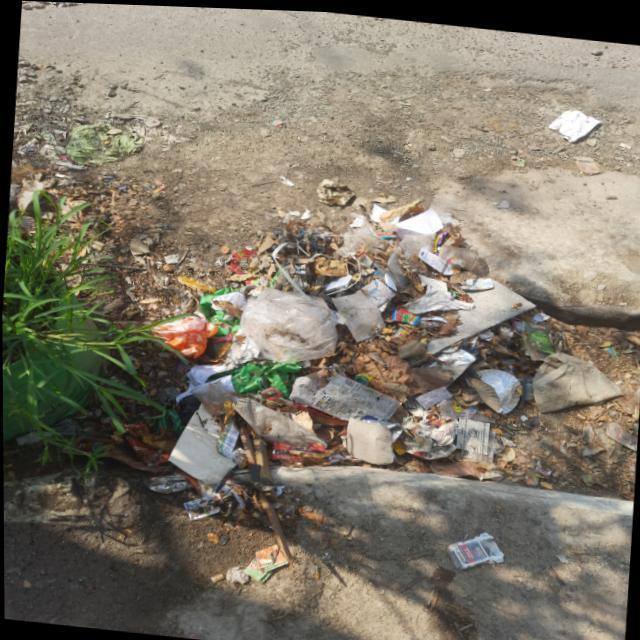Cig_pack: (324, 272, 351, 290), (174, 359, 189, 371)
Disposable: (189, 378, 237, 414), (437, 240, 478, 267)
Garbage: (63, 188, 625, 520)
Plastic: (354, 370, 371, 383)
Plastic_Bag: (239, 286, 337, 360), (386, 229, 435, 286), (230, 357, 300, 396), (332, 288, 384, 339), (198, 285, 240, 334), (335, 219, 377, 254), (460, 429, 500, 459), (176, 392, 200, 426), (438, 395, 474, 415), (437, 209, 460, 221), (470, 408, 494, 419), (349, 209, 364, 217)
Plastic_wraper: (310, 371, 399, 425), (420, 345, 474, 382), (123, 423, 168, 465), (183, 490, 237, 518), (270, 440, 328, 460), (523, 318, 554, 349), (220, 475, 249, 507), (143, 474, 191, 492), (229, 246, 255, 272), (73, 437, 112, 452), (391, 305, 418, 322), (239, 276, 260, 292), (258, 383, 281, 397), (355, 250, 372, 265), (509, 312, 525, 327), (500, 354, 514, 369), (209, 332, 231, 341), (377, 228, 395, 236)
